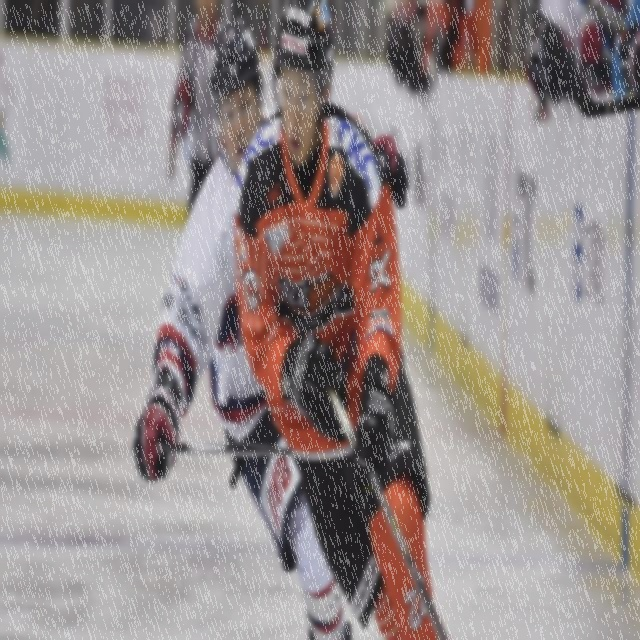pessoa: (125, 17, 414, 639), (232, 0, 448, 639), (167, 0, 230, 236), (523, 0, 639, 121), (369, 0, 502, 100)
